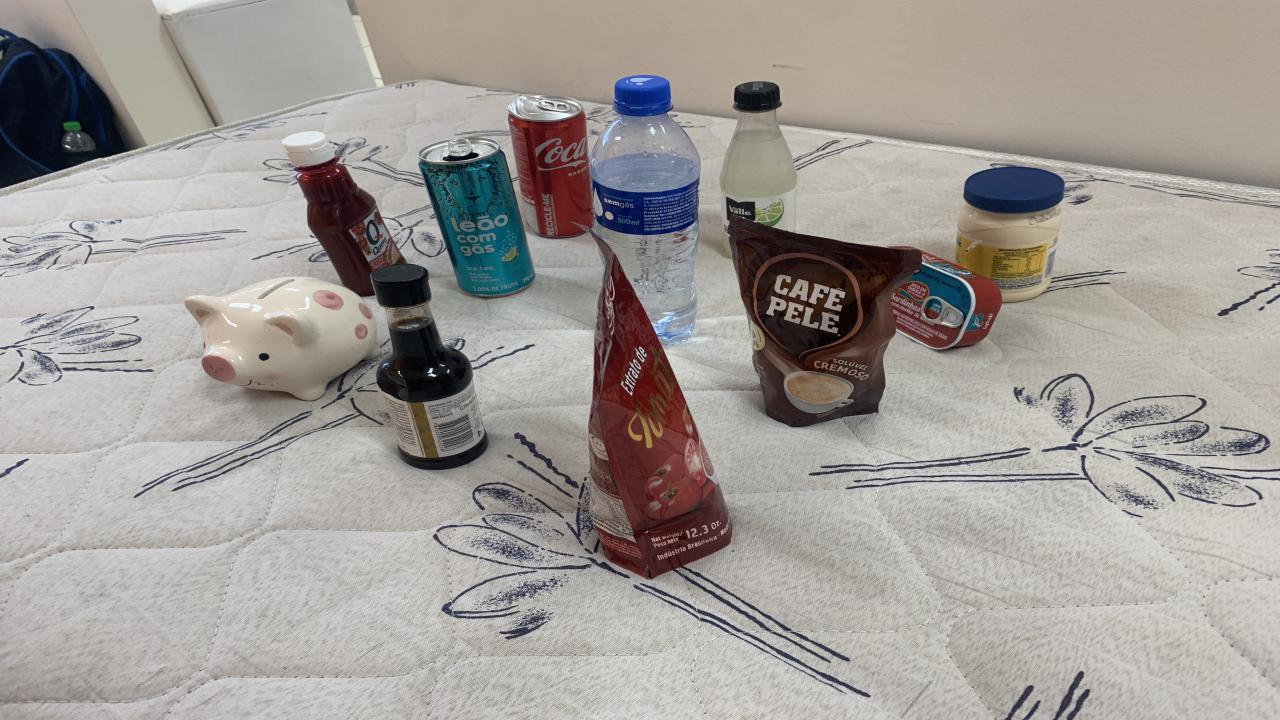Coffee-Pantry_Items: (728, 218, 922, 428)
Coke-Drinks: (508, 96, 592, 238)
English_Sauce-Pantry_Items: (370, 264, 488, 469)
Ketchup-Pantry_Items: (282, 131, 405, 296)
Mayonnaise-Pantry_Items: (955, 167, 1065, 302)
Pig_Safe-Miscellaneous: (185, 278, 378, 401)
Soda-Drinks: (720, 81, 798, 231)
Tea-Drinks: (420, 137, 535, 296)
Tomato_Sauce-Pantry_Items: (588, 232, 732, 579)
Tuna_Can-Pantry_Items: (892, 251, 1002, 349)
Water_Bottle-Drinks: (590, 77, 700, 343)
